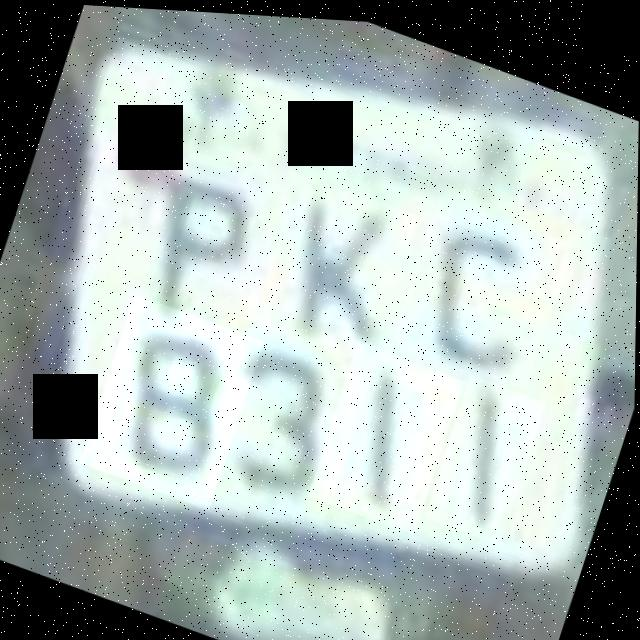1: (308, 335, 465, 532), (425, 367, 547, 541)
3: (183, 304, 378, 524)
8: (80, 289, 265, 510)
C: (392, 187, 574, 385)
K: (241, 163, 435, 369)
P: (120, 138, 278, 339)
